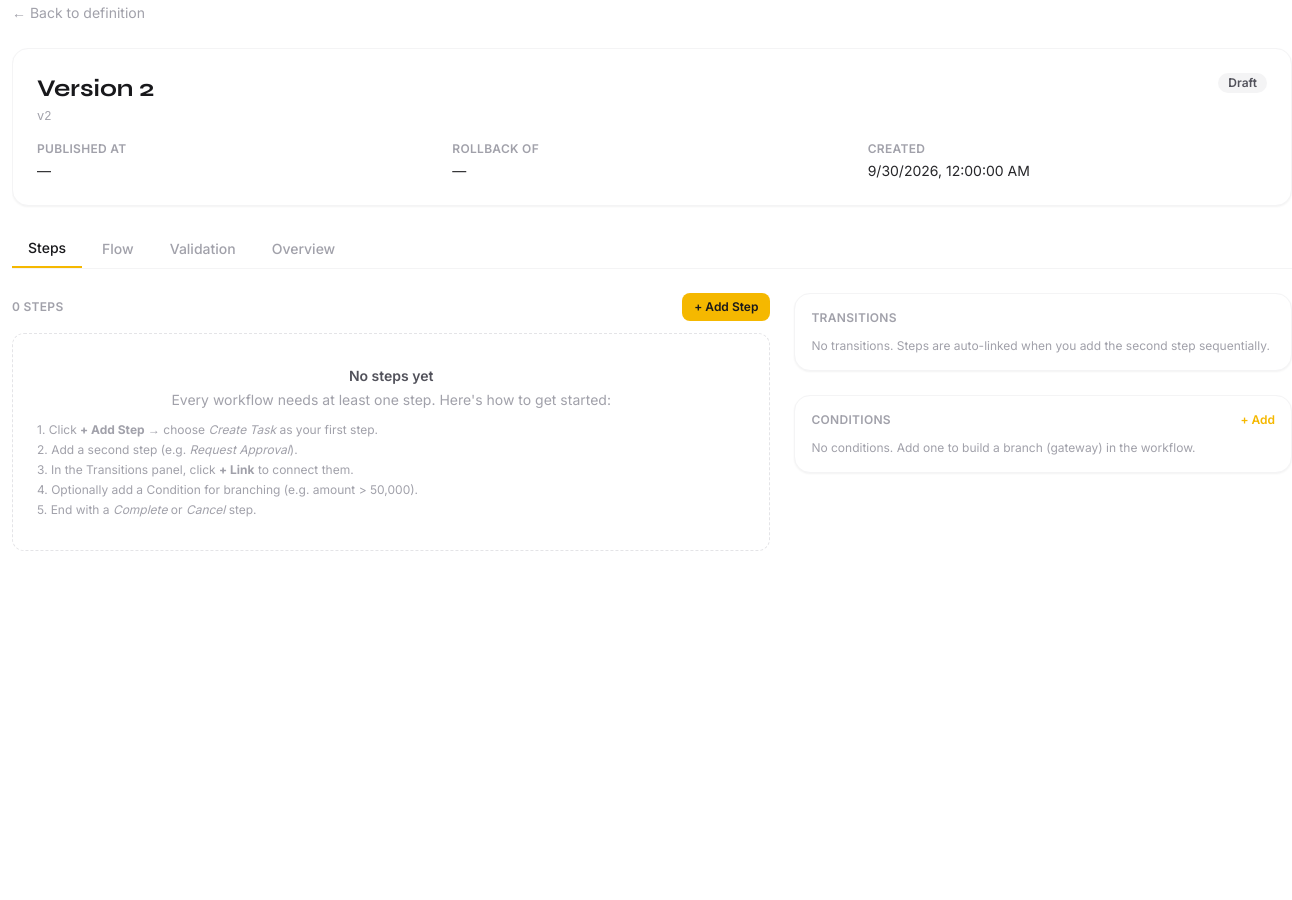
Scenario: WorkflowVersionDetailPage › shows Approve/Reject form when definition is under_review
Expected: the heading "Version 2" is shown, [37, 73, 154, 105]
Click the button "validation": (203, 249) [154, 230, 252, 268]
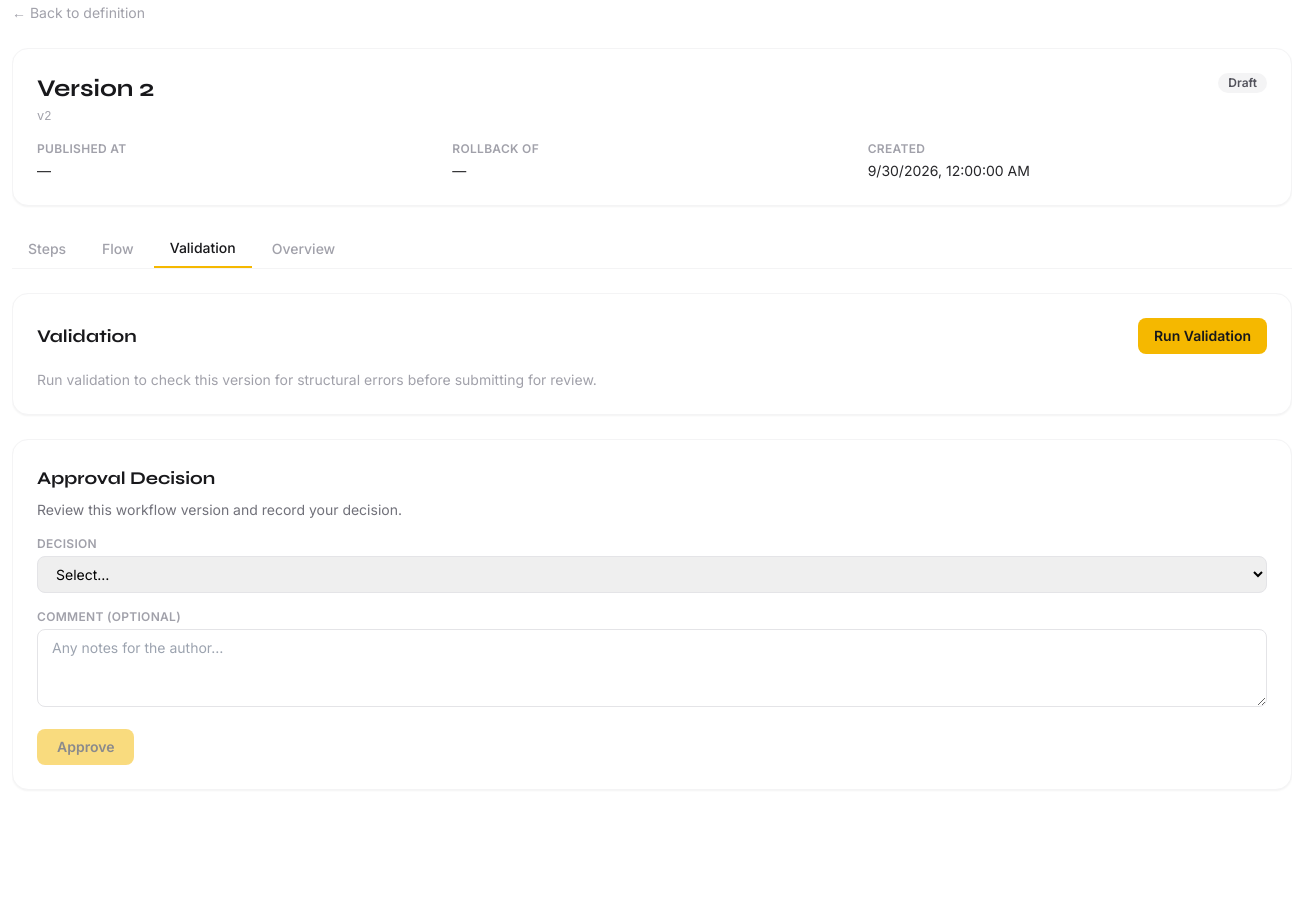
Now the heading "Approval Decision" is shown, box [37, 467, 215, 489]
